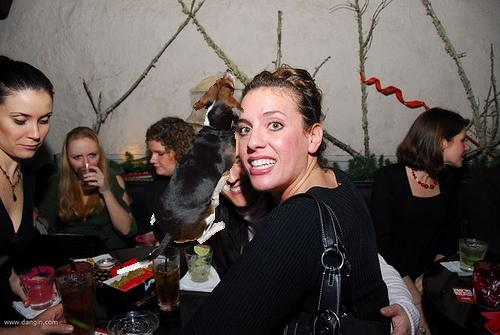tampered: (117, 70, 244, 274)
